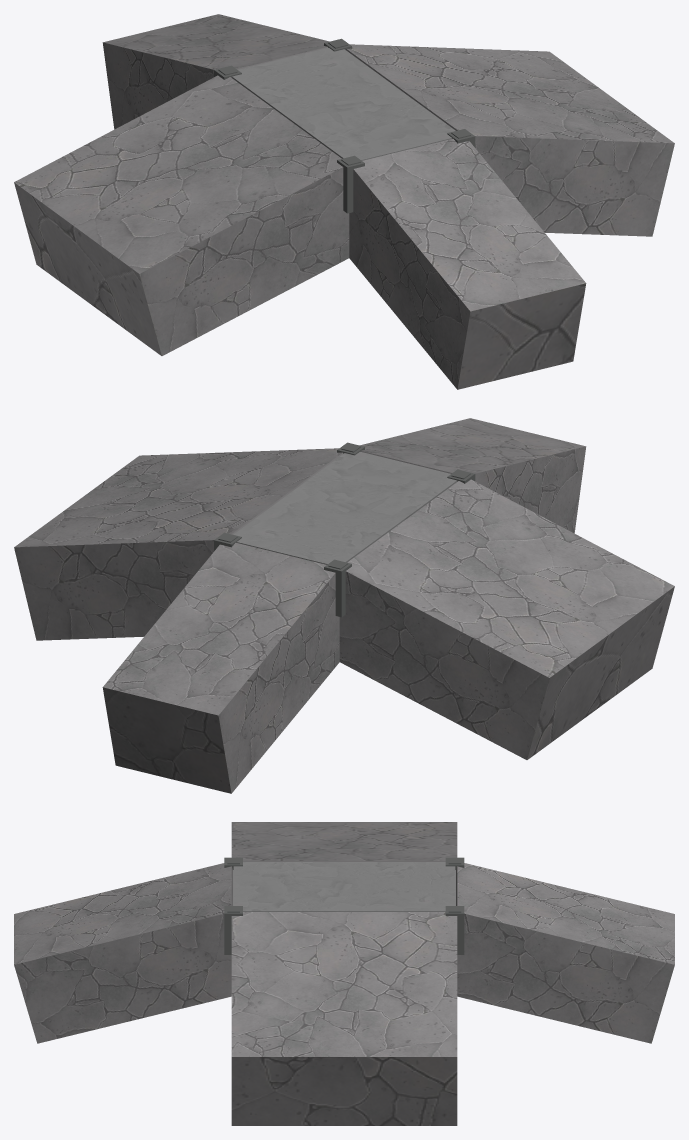
The model's file is OtherGrounds.fbx.
3 views of the same model, one above another, from view 1: azimuth 30°, elevation 25°; view 2: azimuth 150°, elevation 25°; view 3: azimuth 270°, elevation 25° (orthographic). The views are drawn at different scales.
Parts seen in each view (by area): view 1: Ground3_2, Ground3_4, Ground3_3, Ground3_1, Ground3_5; view 2: Ground3_2, Ground3_5, Ground3_3, Ground3_1, Ground3_4; view 3: Ground3_3, Ground3_5, Ground3_4, Ground3_1, Ground3_2.
Boxes of the visible parts, box(x1,y1,x2,y2) form: Ground3_2: box(14, 75, 349, 355); Ground3_4: box(349, 138, 586, 389); Ground3_3: box(346, 44, 674, 236); Ground3_1: box(214, 38, 475, 213); Ground3_5: box(102, 14, 329, 129); Ground3_2: box(339, 479, 674, 759); Ground3_5: box(102, 542, 339, 793); Ground3_3: box(14, 448, 343, 640); Ground3_1: box(214, 442, 475, 617); Ground3_4: box(360, 418, 586, 533); Ground3_3: box(231, 912, 457, 1125); Ground3_5: box(456, 863, 674, 1043); Ground3_4: box(14, 863, 232, 1043); Ground3_1: box(224, 857, 464, 954); Ground3_2: box(231, 822, 457, 861).
Size of what is drawn, in the model's own units: 370 by 98.03 by 440.
